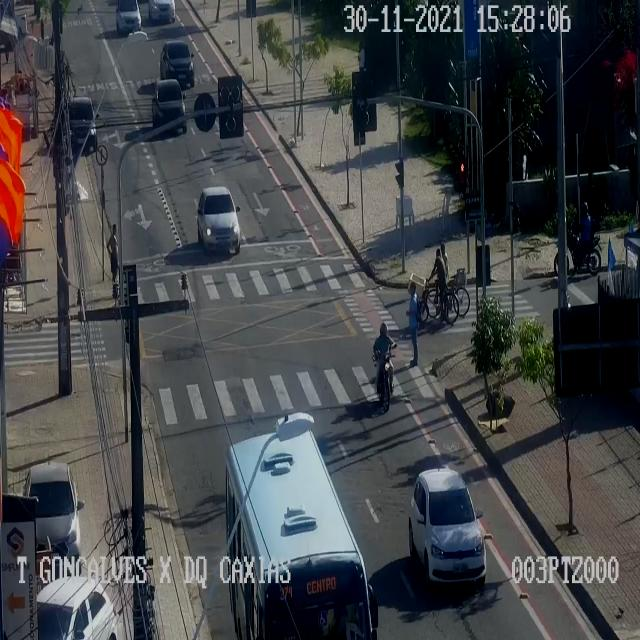Bus: (224, 431, 378, 639)
Car: (408, 469, 486, 587), (25, 464, 83, 567), (36, 575, 117, 639), (197, 187, 241, 255), (152, 78, 186, 134), (67, 95, 99, 152), (159, 42, 194, 86), (149, 0, 176, 28), (117, 4, 143, 33)
Motorcycle: (554, 199, 600, 278), (371, 322, 395, 413)
